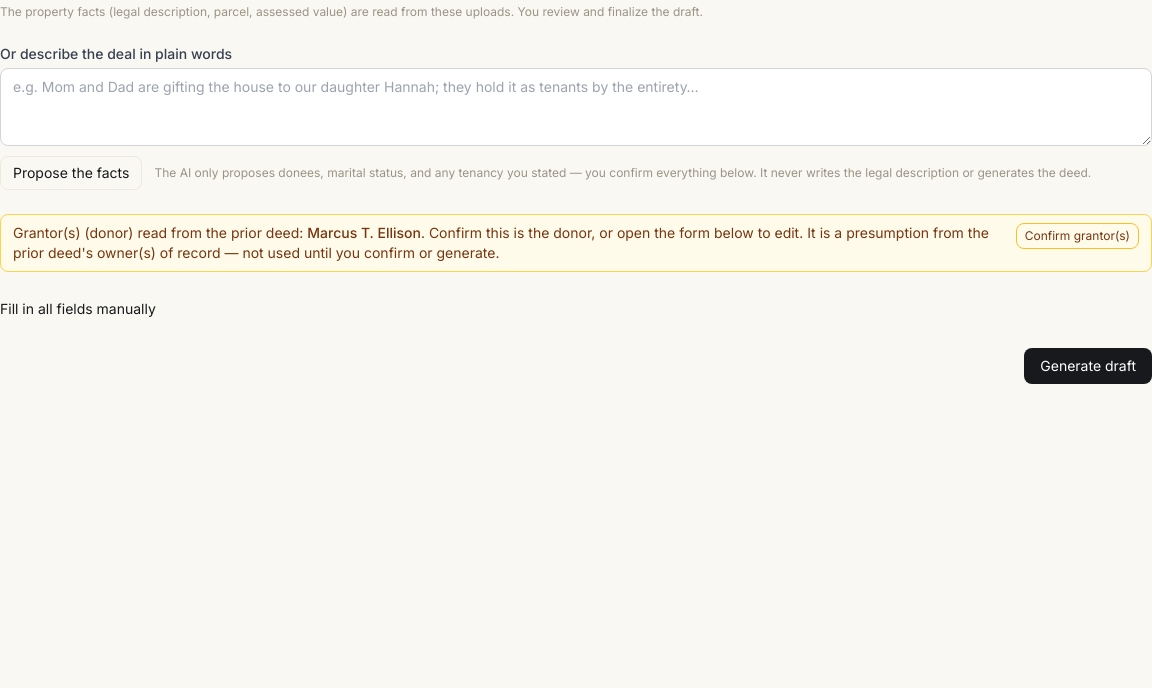
it: DeedIntake — DEED-INTAKE-REDESIGN-1 + DEED-EXPRESS-1 › DEED-EXPRESS-1: Generate with an unreadable legal description EXPANDS + warns; does not one-click
Replace the text in the text box with test id "deed-intake-freetext" with "gift to my daughter Hannah" at (576, 107), box top-left (0, 68), bottom-right (1151, 146)
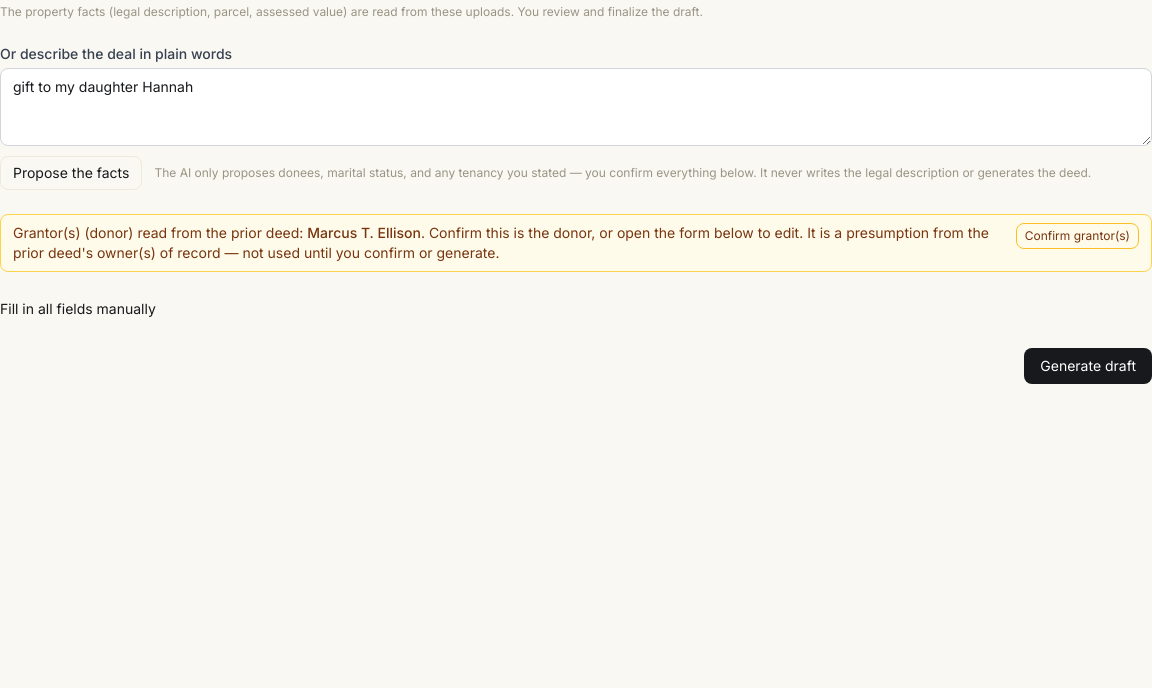
Click the button with test id "deed-intake-propose" at (71, 173), box top-left (0, 156), bottom-right (142, 190)
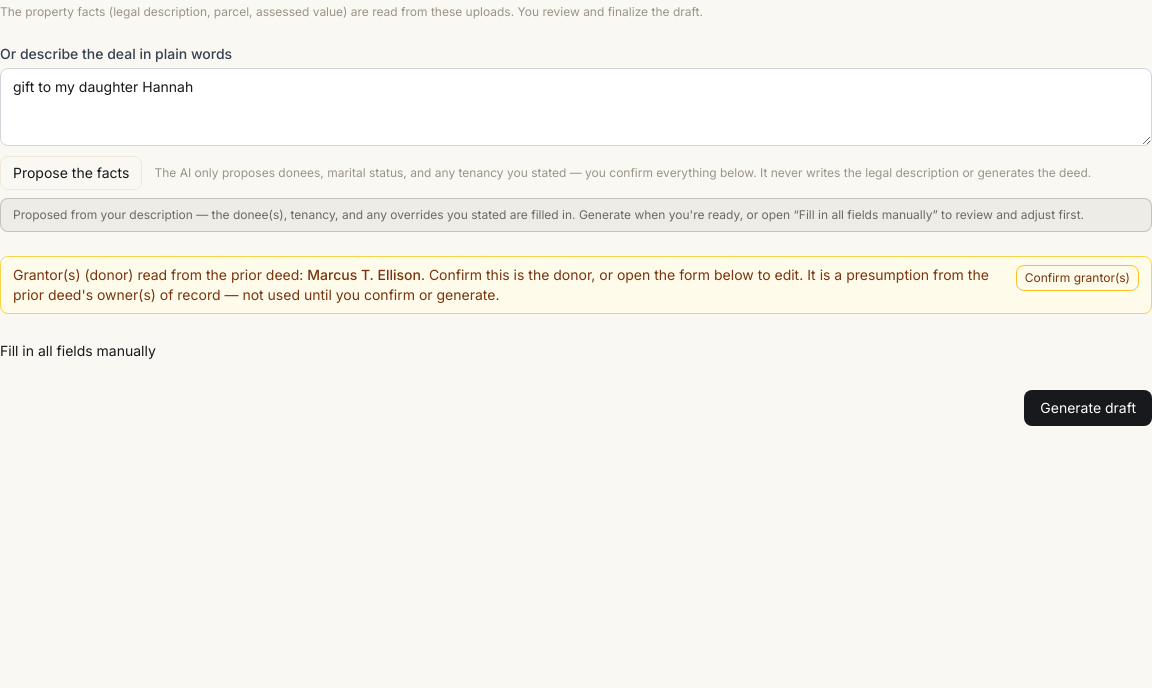
Click the button with test id "quick-deed-generate" at (1088, 408), box top-left (1024, 390), bottom-right (1151, 426)
(page scrolled)
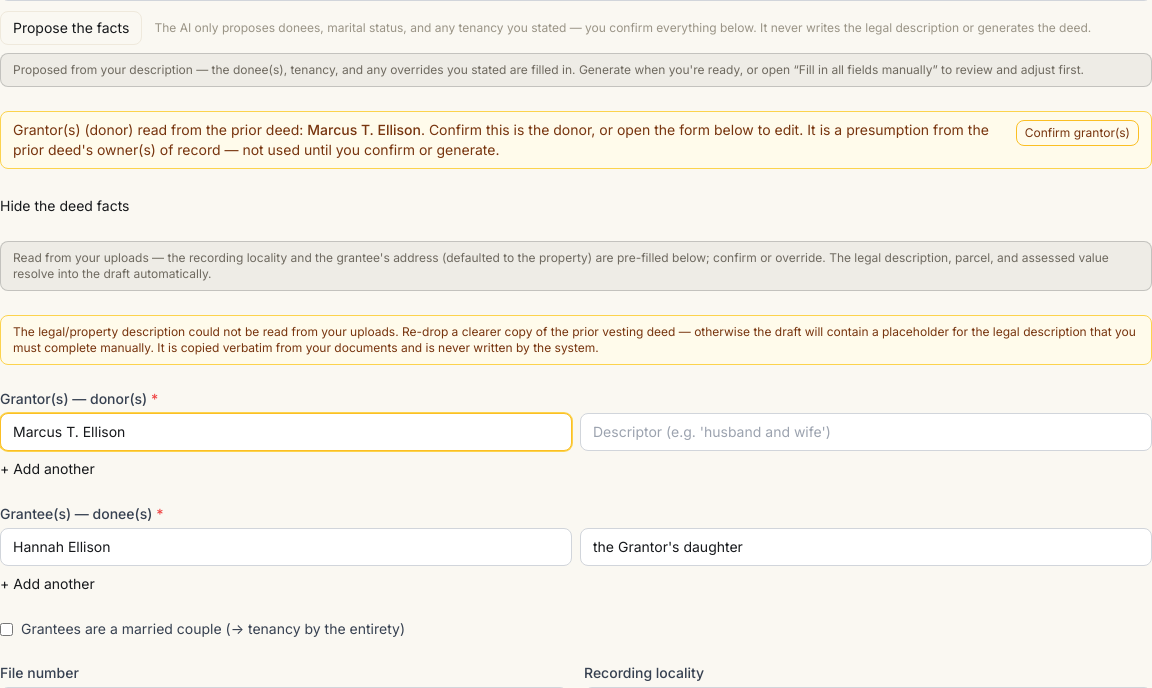
Result: the text with test id "deed-intake-legal-missing" is shown at top-left (0, 315), bottom-right (1151, 365)
